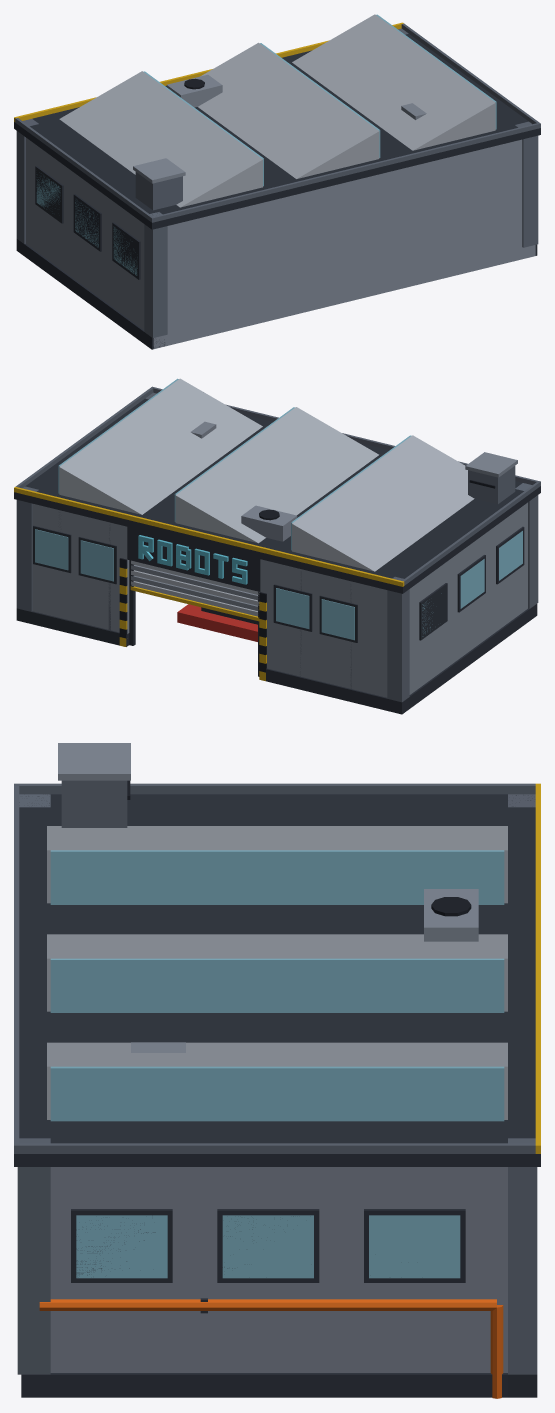
Rendered from Decor_RobotFactory_Hall.fbx.
3 renders of one model, top to bottom at view 1: azimuth 30°, elevation 25°; view 2: azimuth 150°, elevation 25°; view 3: azimuth 270°, elevation 25°, orthographic. The views are drawn at different scales.
Visible parts, largest first — view 1: Hall_Body, Hall_Roof; view 2: Hall_Roof, Hall_Body; view 3: Hall_Roof, Hall_Body.
Boxes of the visible parts, bbox=[...] form: Hall_Body: bbox=[16, 28, 538, 349]; Hall_Roof: bbox=[14, 14, 540, 229]; Hall_Roof: bbox=[14, 378, 540, 593]; Hall_Body: bbox=[16, 392, 538, 714]; Hall_Roof: bbox=[14, 743, 540, 1166]; Hall_Body: bbox=[17, 794, 537, 1398].
Bounding box in the file's own units: 46.8 × 18.4 × 28.8.
